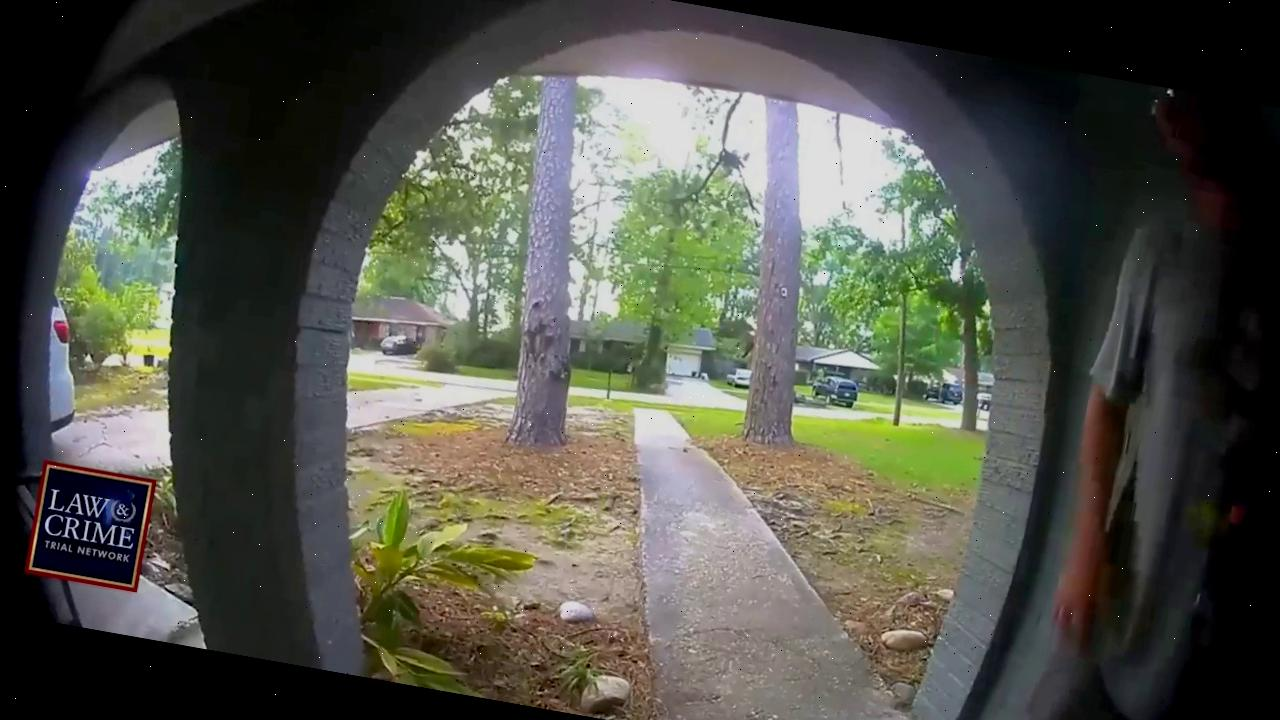suspicion: (961, 73, 1280, 720)
